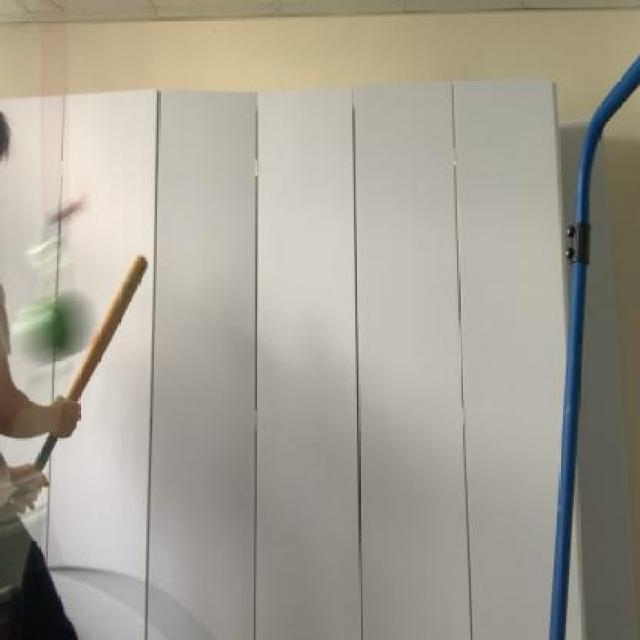baseball: (12, 285, 96, 367)
